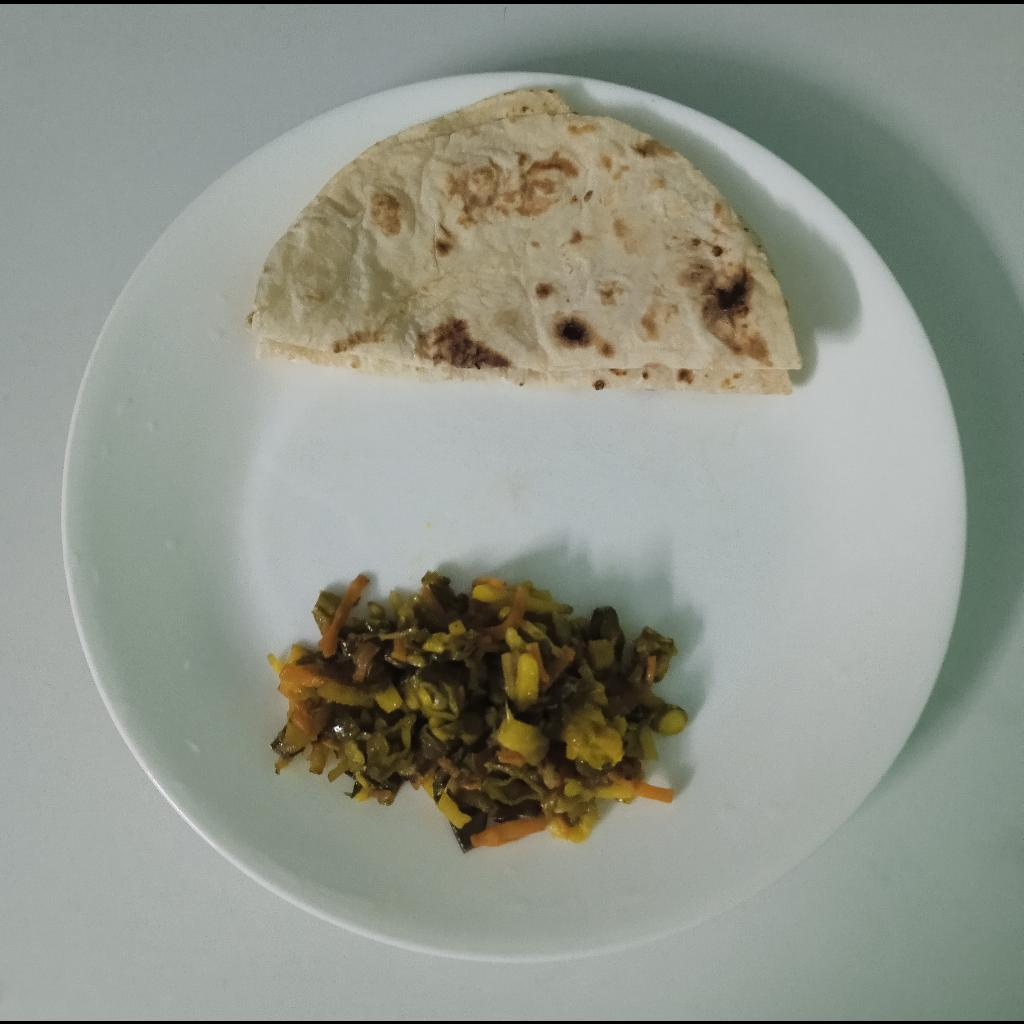ruti: (247, 86, 806, 395)
shak: (274, 575, 690, 849)
